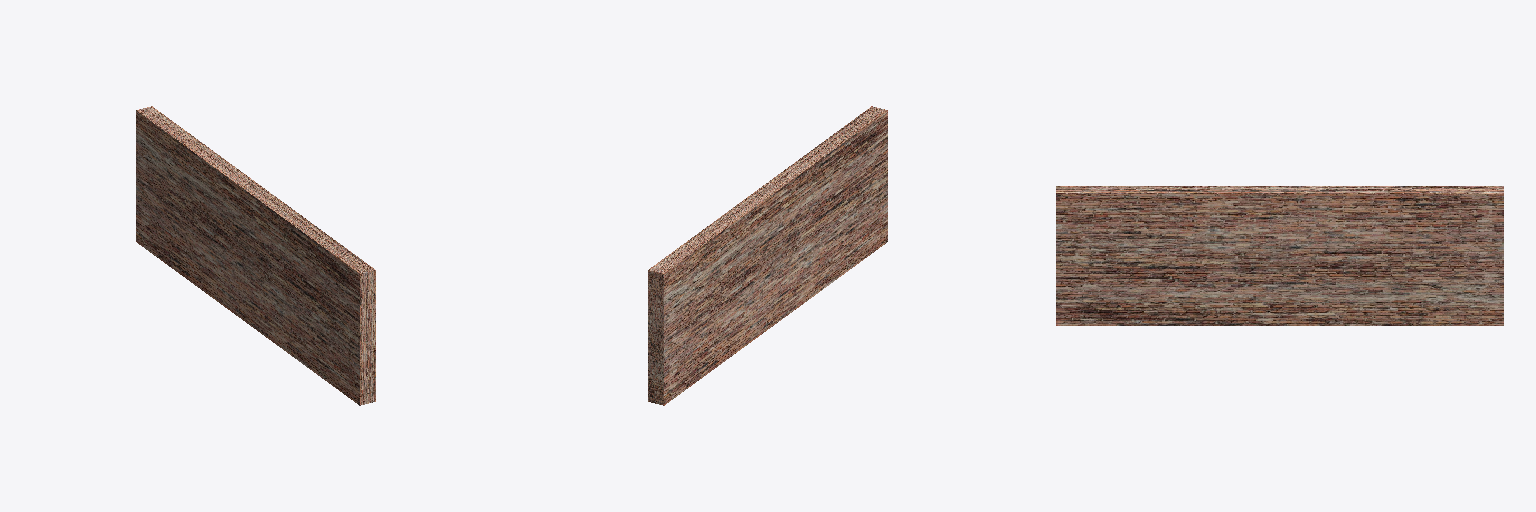
3 views of the same model, side by side, from view 1: azimuth 30°, elevation 25°; view 2: azimuth 150°, elevation 25°; view 3: azimuth 270°, elevation 25° (orthographic).
Parts seen in each view (by area): view 1: Cube; view 2: Cube; view 3: Cube.
Part boxes in pixels (x1,y1,x2,y2): Cube: (136,106,375,405); Cube: (648,106,887,405); Cube: (1056,186,1503,325).
Bounding box in the file's own units: 0.5131 × 4.01 × 12.32.
1 materials, 1 textured.